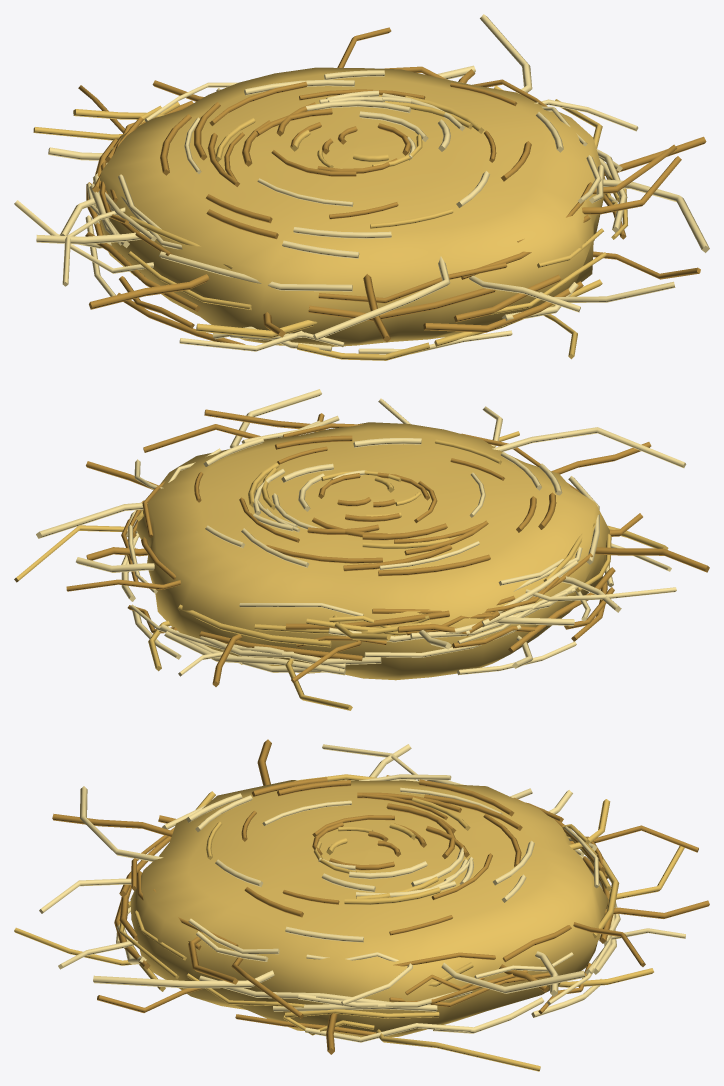
File: hay-patty.glb
3 renders of one model, top to bottom at view 1: azimuth 30°, elevation 25°; view 2: azimuth 150°, elevation 25°; view 3: azimuth 270°, elevation 25°, orthographic. The views are drawn at different scales.
Visible parts, largest first — view 1: edible_hay_patty.002, edible_hay_straw; view 2: edible_hay_patty.002, edible_hay_straw; view 3: edible_hay_patty.002, edible_hay_straw.
Boxes of the visible parts, x1=… form: edible_hay_patty.002: x1=95, y1=67, x2=605, y2=346; edible_hay_straw: x1=14, y1=14, x2=709, y2=360; edible_hay_patty.002: x1=136, y1=422, x2=609, y2=680; edible_hay_straw: x1=14, y1=389, x2=709, y2=710; edible_hay_patty.002: x1=130, y1=780, x2=608, y2=1038; edible_hay_straw: x1=14, y1=739, x2=709, y2=1071.
Bounding box in the file's own units: 0.2348 × 0.0405 × 0.2361.
